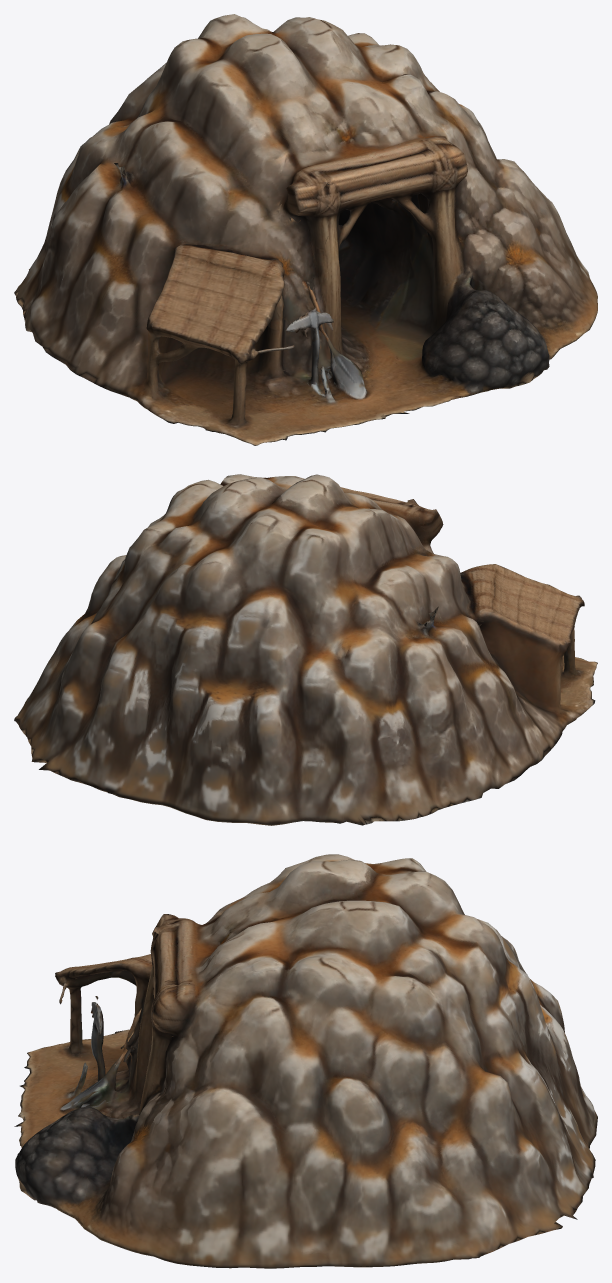
File: Mine (East Africa).fbx
3 views of the same model, one above another, from view 1: azimuth 30°, elevation 25°; view 2: azimuth 150°, elevation 25°; view 3: azimuth 270°, elevation 25° (orthographic). The views are drawn at different scales.
Parts seen in each view (by area): view 1: Mesh_0; view 2: Mesh_0; view 3: Mesh_0.
Part boxes in pixels (left/top/right/bottom): Mesh_0: left=14, top=14, right=597, bottom=445; Mesh_0: left=14, top=474, right=597, bottom=825; Mesh_0: left=14, top=854, right=597, bottom=1268.
Bounding box in the file's own units: 200 × 102 × 200.
1 material, 1 textured.
